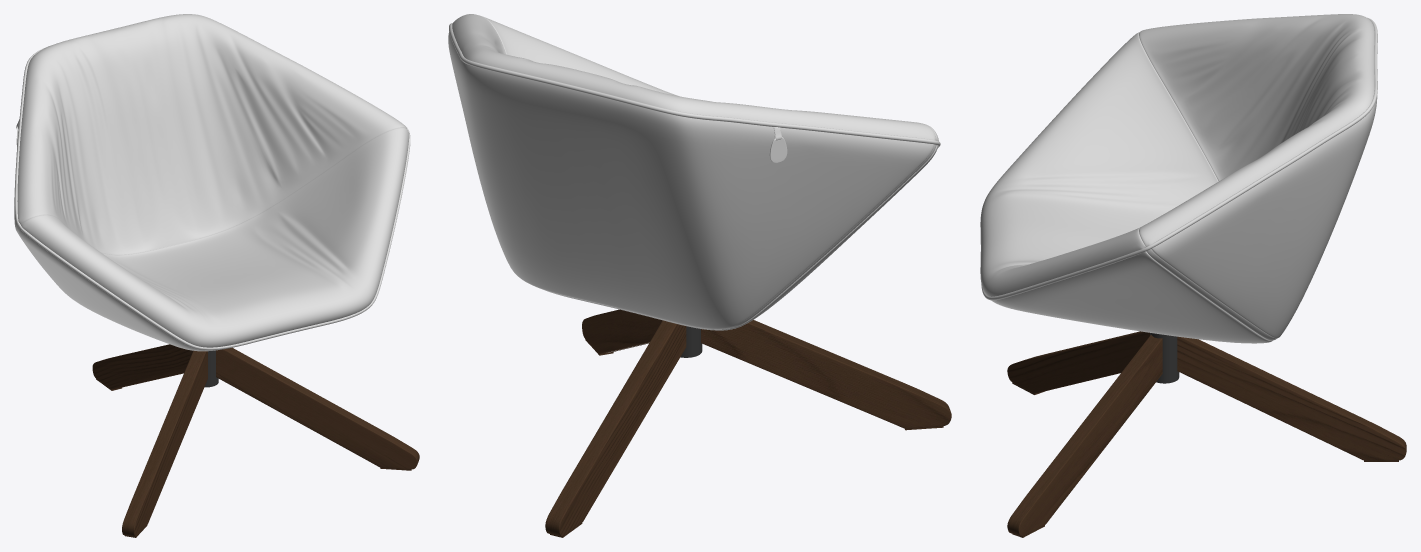
File: SBH_Allora.glb
3 renders of one model, left to right at view 1: azimuth 30°, elevation 25°; view 2: azimuth 150°, elevation 25°; view 3: azimuth 270°, elevation 25°, orthographic. The views are drawn at different scales.
Parts seen in each view (by area): view 1: Allora; view 2: Allora; view 3: Allora.
Part boxes in pixels (left/top/right/bottom): Allora: left=14, top=14, right=419, bottom=537; Allora: left=448, top=14, right=951, bottom=537; Allora: left=980, top=14, right=1406, bottom=537.
Bounding box in the file's own units: 0.8179 × 0.7228 × 0.6888.
Materials: 4 (1 with a texture image).
